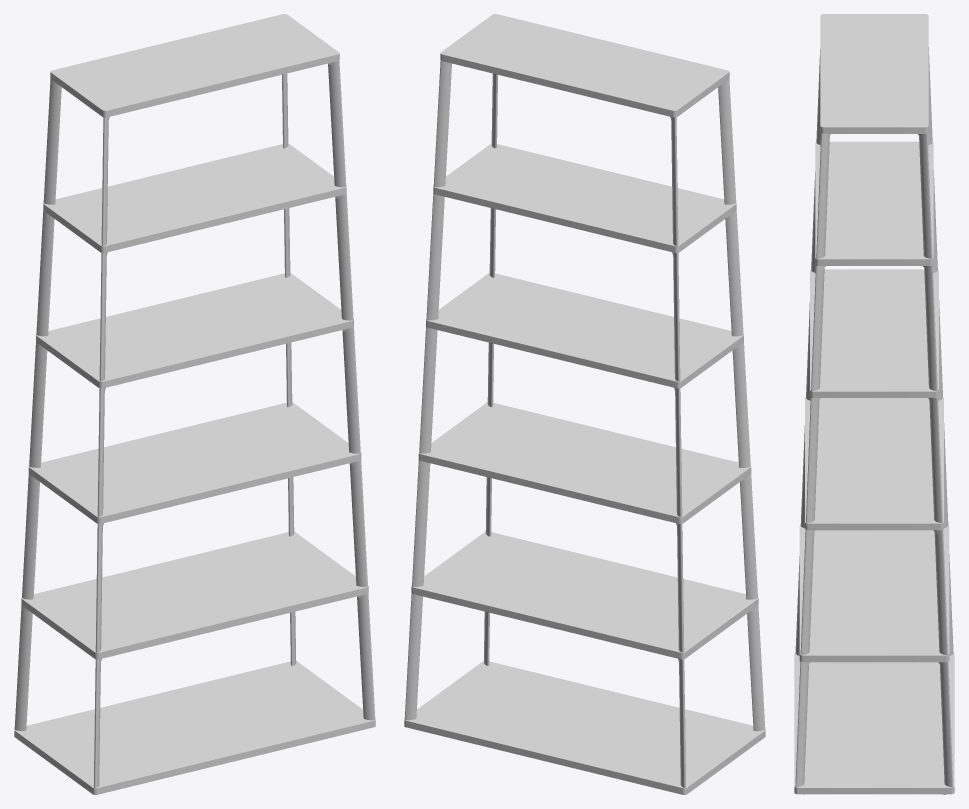
File: eiffel_shelf.gltf
3 views of the same model, side by side, from view 1: azimuth 30°, elevation 25°; view 2: azimuth 150°, elevation 25°; view 3: azimuth 270°, elevation 25° (orthographic).
Visible parts, largest first — view 1: Mesh; view 2: Mesh; view 3: Mesh.
Part boxes in pixels (<box>): Mesh: <box>14,14,375,794</box>; Mesh: <box>404,14,765,794</box>; Mesh: <box>794,14,954,794</box>.
Size of the model in its own units: 0.8009 by 1.82 by 0.4004.
1 material, 1 textured.
